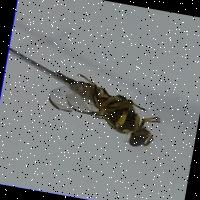Oriental-fruit-fly: (41, 46, 182, 152)
